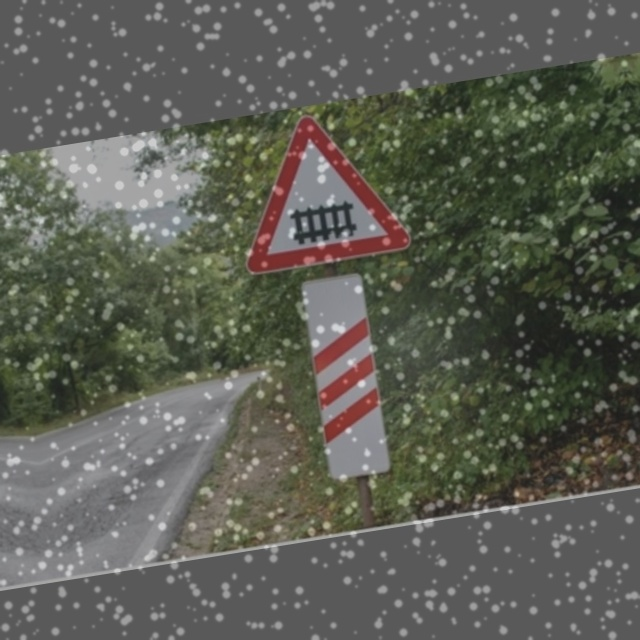Guarded_Level_Crossing: (226, 103, 414, 274)
